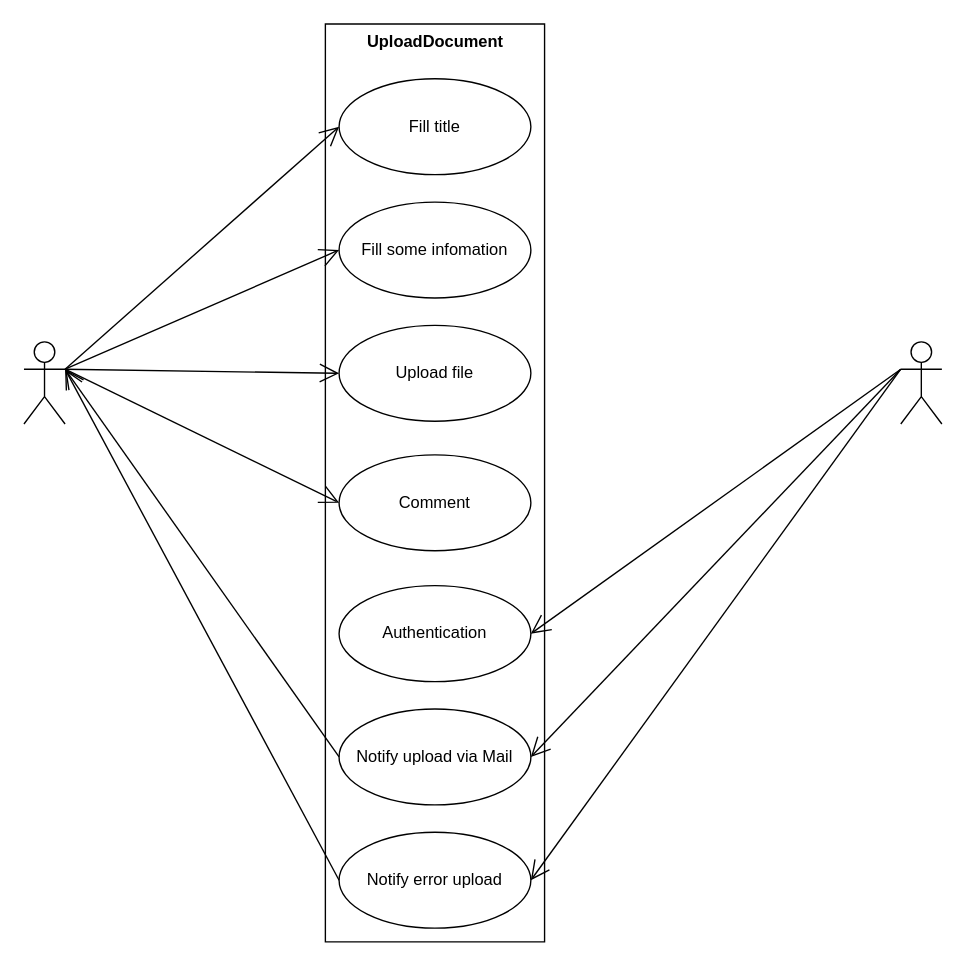
Some shapes in this 971 by 966 pixel diagram are drawn without their labels. Here are the shapes that lost their labels. From the top down, the box of each, then its label:
(23, 340, 65, 424): user
(899, 340, 942, 424): system
